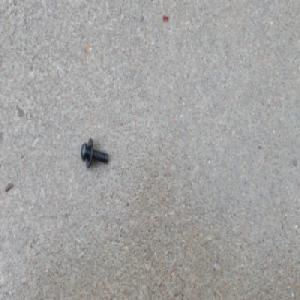BoltWasher: (80, 136, 108, 170)
